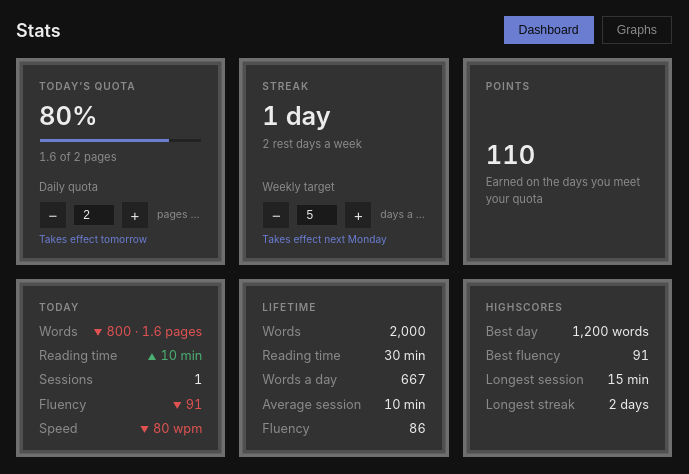
Test case: Stats screen — Graphs tab, timeframe gating › opens Month and Total once the history reaches them
Click the button "Graphs".
click(637, 30)  # box [602,16,672,44]
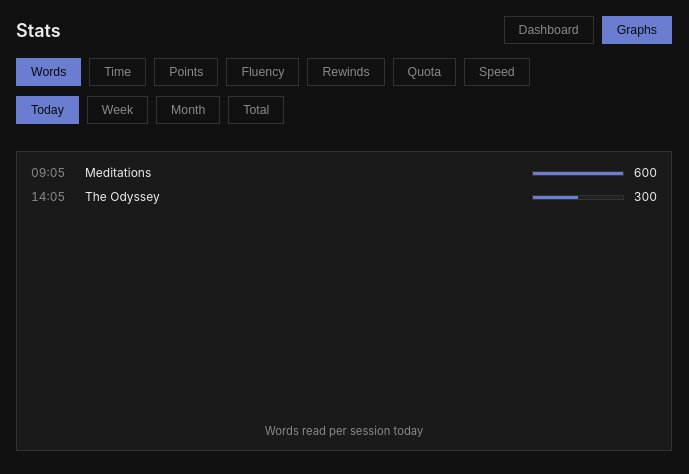
Now the button "Month" is enabled, box [156,96,220,124]
Now the button "Total" is enabled
Click the button "Total".
click(256, 110)  # box [228,96,284,124]
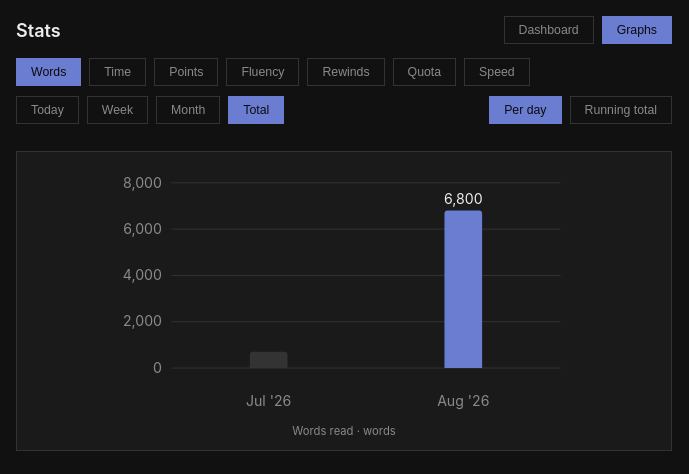
Now the picture "0 2,000 4,000 6,000 8,000 6,800 Jul '26 Aug '26" is shown, box [31,164,657,415]
